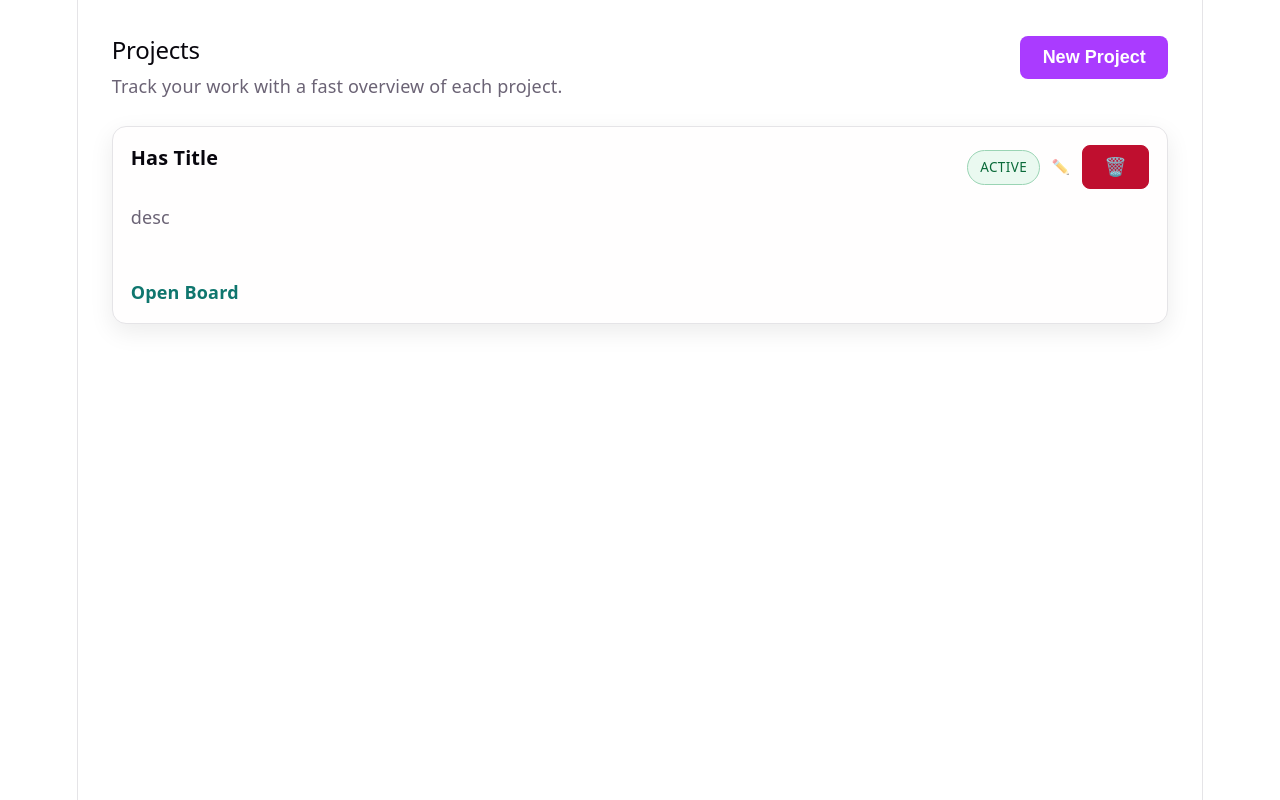
Dashboard › shows validation error when update submitted with empty title
This screenshot has width=1280, height=800.
expect the heading "Has Title" is shown: met, box 131,145 -> 218,172
Click the button named "Edit Has Title".
click(1061, 167)  # box 1047,157 -> 1074,177
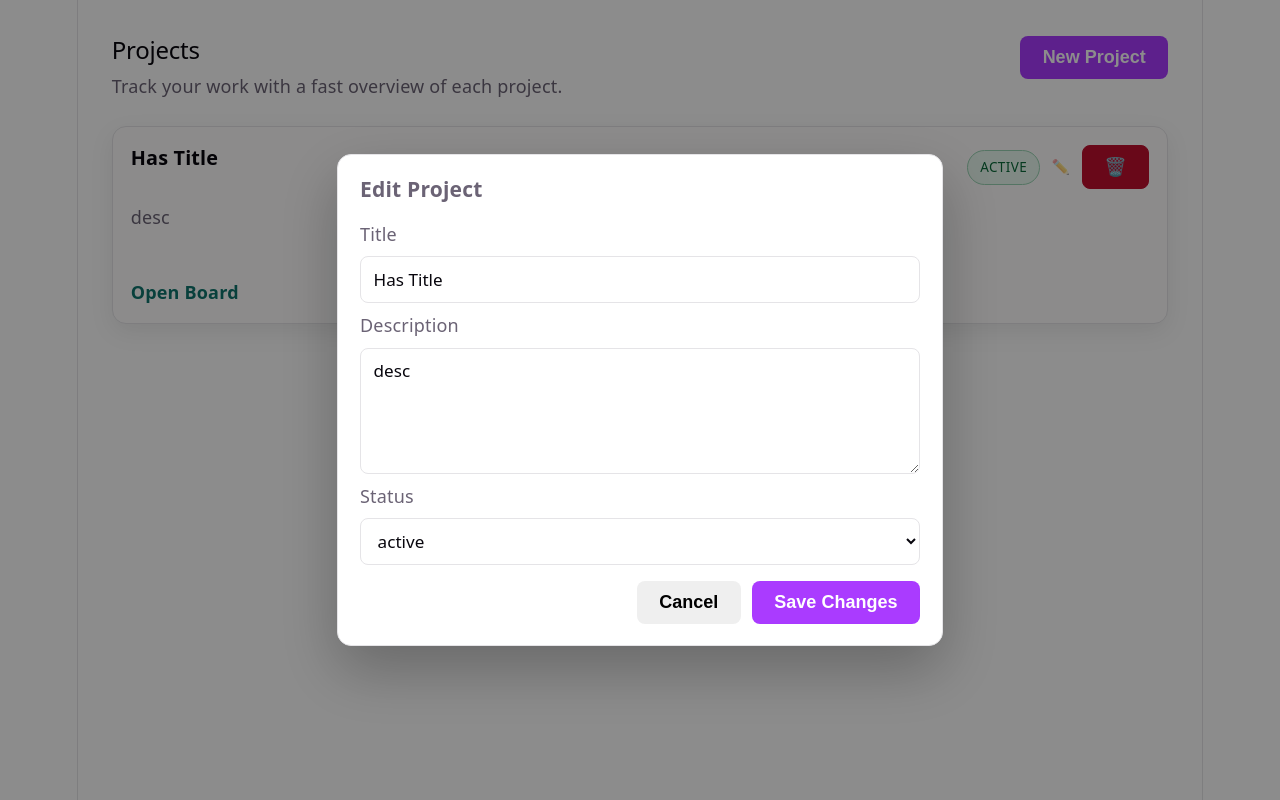
Clear the field labelled "Title" at (640, 280), box 360,256 -> 920,304
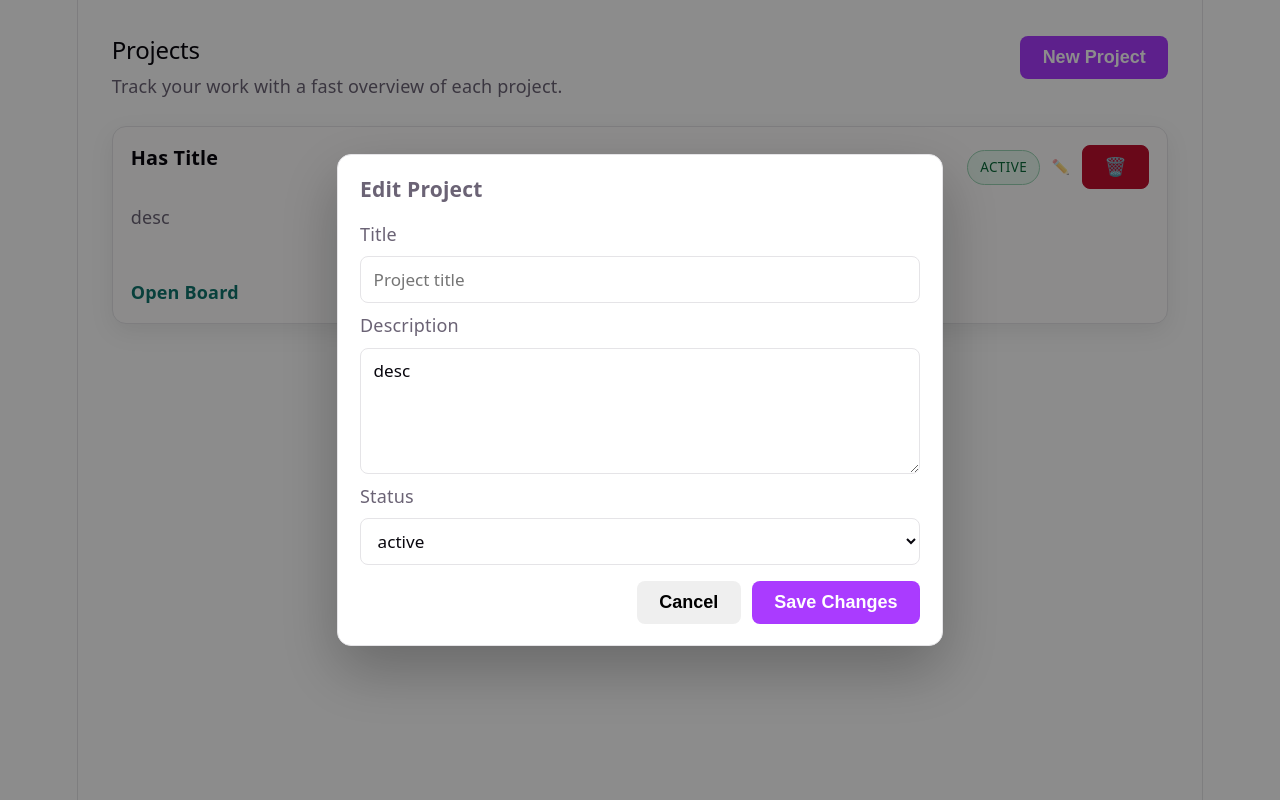
Click the button "Save Changes".
click(836, 602)  # box 752,581 -> 920,624
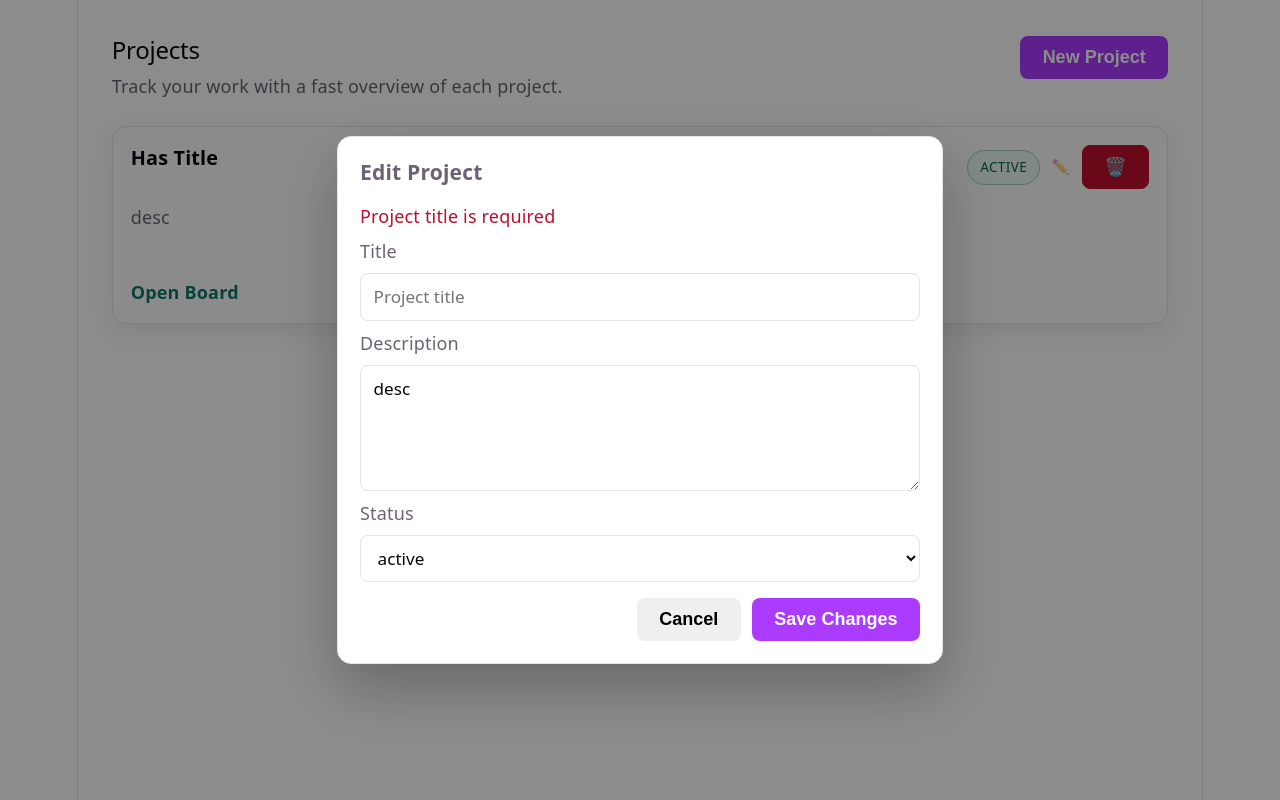
expect the text "Project title is required" is shown: met, box 360,204 -> 555,228
